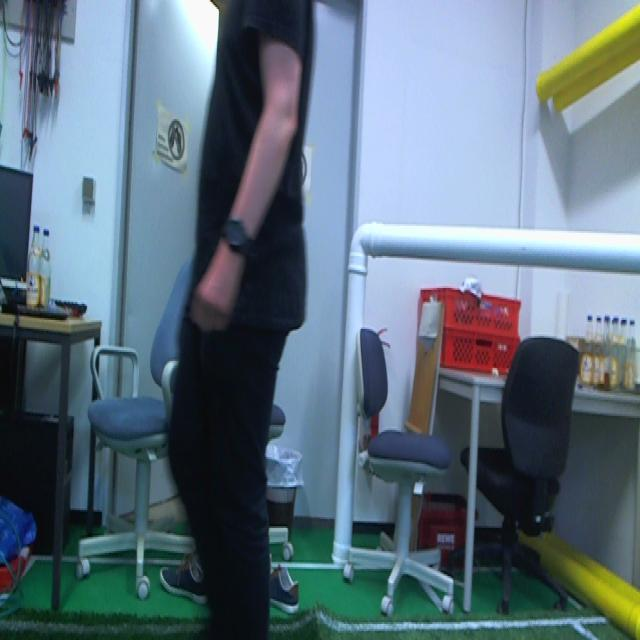goalpost: (328, 224, 373, 569)
